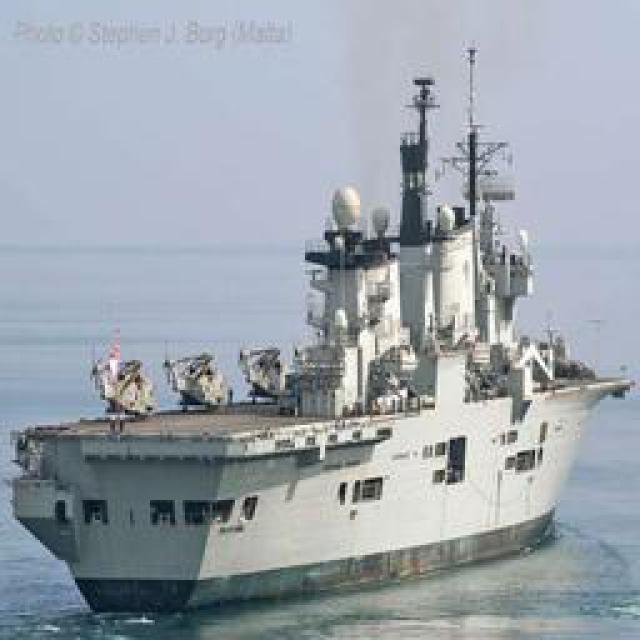Ship: (17, 65, 627, 618)
